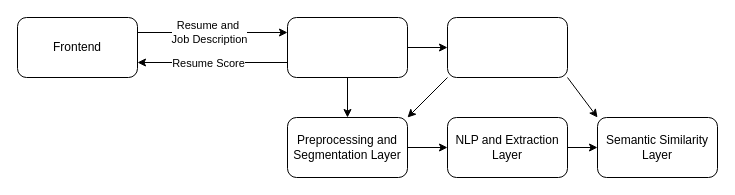
The diagram is 735 pixels wide and 195 high, and some of its shapes have lost their labels. Each missing label, with the centre of its shape:
Backend: the point at 347,47
Data Layer: the point at 507,47
